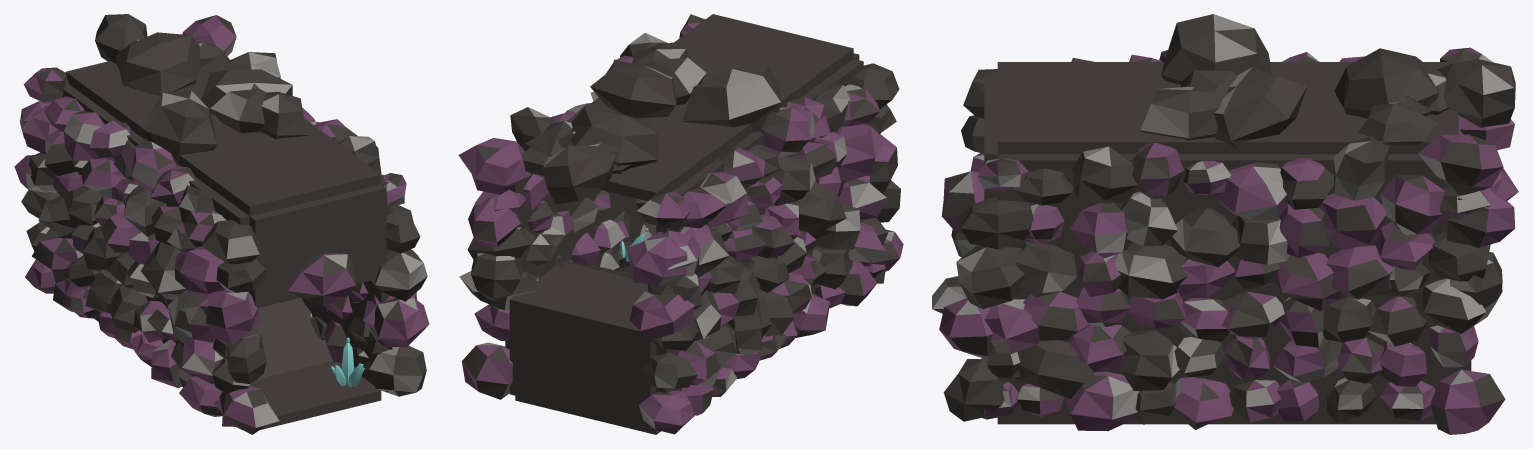
Rendered from Cave_Crystal_Drop.fbx.
3 renders of one model, left to right at view 1: azimuth 30°, elevation 25°; view 2: azimuth 150°, elevation 25°; view 3: azimuth 270°, elevation 25°, orthographic. The views are drawn at different scales.
Parts seen in each view (by area): view 1: Decor, Ceiling1, Wall4, Floor2, Slope, Wall2, Wall1; view 2: Decor, Ceiling1, Wall3, Floor1, Wall1, Wall2; view 3: Decor, Ceiling1, Wall1, Floor2, Wall4, Floor1.
Boxes of the visible parts, <box> form: Decor: <box>14,14,429,434</box>; Ceiling1: <box>65,61,381,216</box>; Wall4: <box>249,184,386,307</box>; Floor2: <box>250,361,381,429</box>; Slope: <box>255,298,332,379</box>; Wall2: <box>62,84,249,343</box>; Wall1: <box>302,175,390,385</box>; Decor: <box>458,14,903,434</box>; Ceiling1: <box>522,14,853,201</box>; Wall3: <box>509,295,656,428</box>; Floor1: <box>515,261,660,434</box>; Wall1: <box>505,172,645,349</box>; Wall2: <box>656,59,863,393</box>; Decor: <box>932,14,1518,434</box>; Ceiling1: <box>997,62,1457,154</box>; Wall1: <box>997,154,1457,417</box>; Floor2: <box>997,417,1349,424</box>; Wall4: <box>984,74,997,199</box>; Floor1: <box>1349,417,1436,424</box>.
Size of the model in its own units: 24.34 by 26.86 by 43.37.
